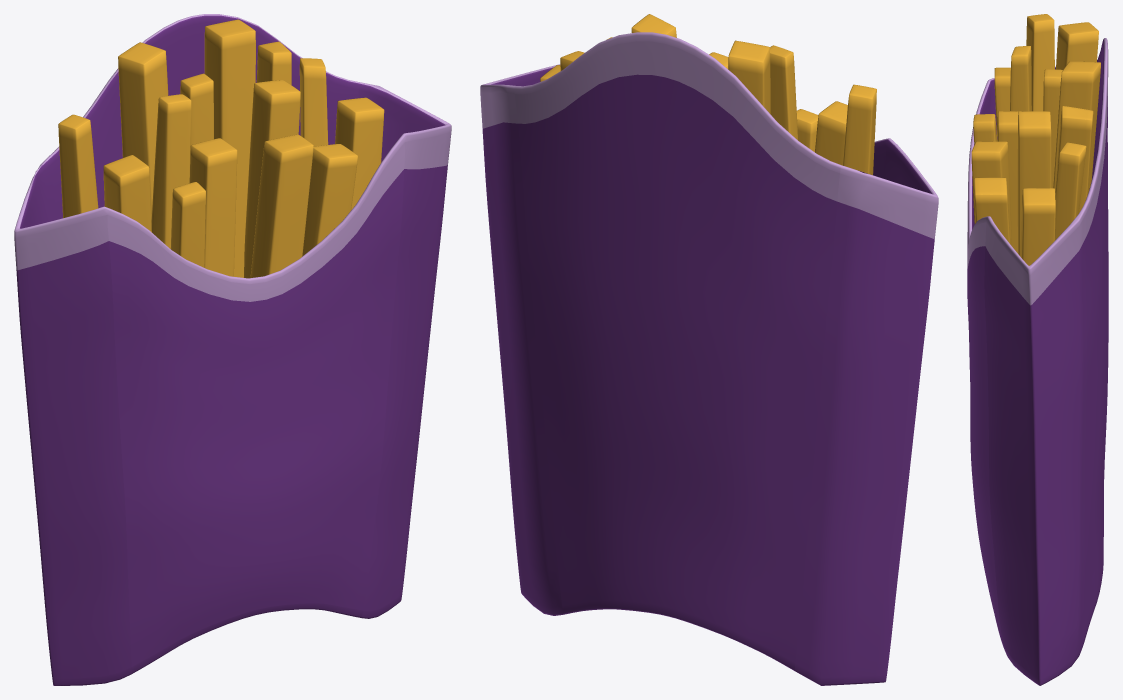
File: frites.glb
3 views of the same model, side by side, from view 1: azimuth 30°, elevation 25°; view 2: azimuth 150°, elevation 25°; view 3: azimuth 270°, elevation 25° (orthographic). The views are drawn at different scales.
Visible parts, largest first — view 1: Paper Holder; view 2: Paper Holder; view 3: Paper Holder.
Part boxes in pixels (x1,y1,x2,y2): Paper Holder: (14, 14, 451, 685); Paper Holder: (480, 14, 938, 685); Paper Holder: (967, 14, 1108, 685).
Bounding box in the file's own units: 2.18 × 2.87 × 0.6578.
